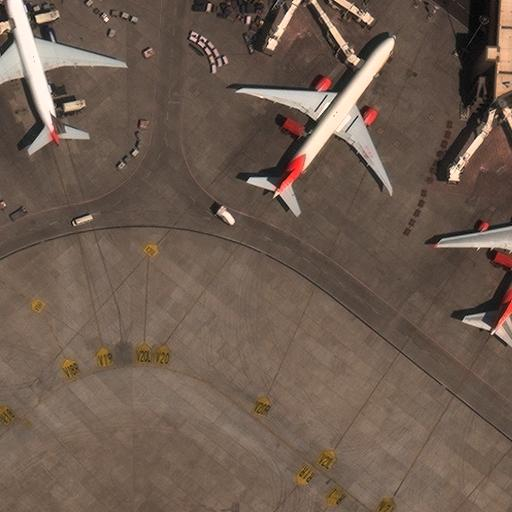Large Civil Transport: (241, 35, 393, 197), (0, 0, 123, 144), (440, 206, 511, 334)
